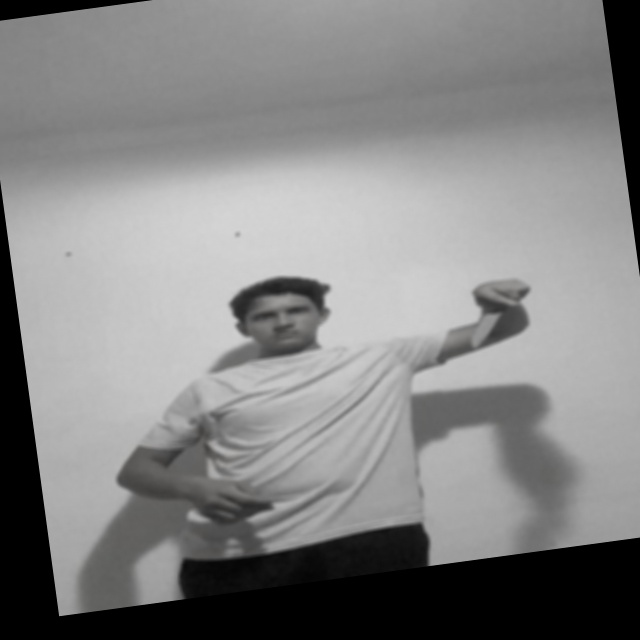Sharp-Object: (462, 312, 510, 349)
